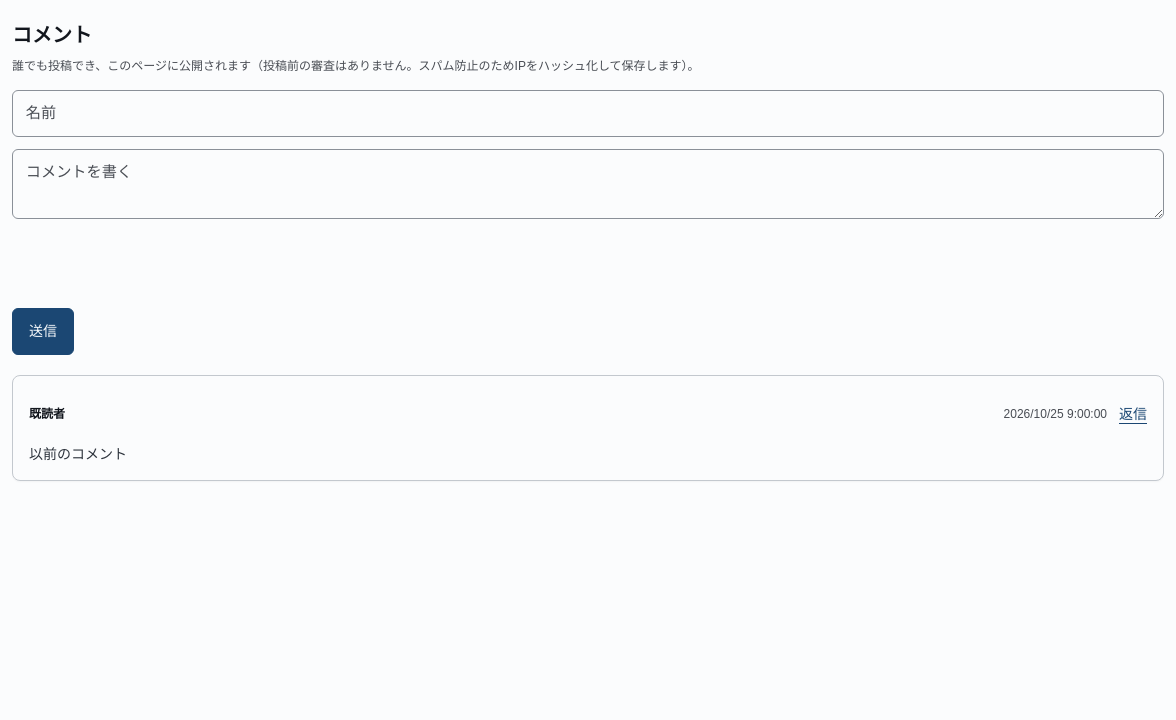
CommentSection › shows a client validation error without network on empty submit
Expected: the text "以前のコメント" is shown, [29,446,127,462]
Click the button "送信" at (43, 332), box [12,308,74,355]
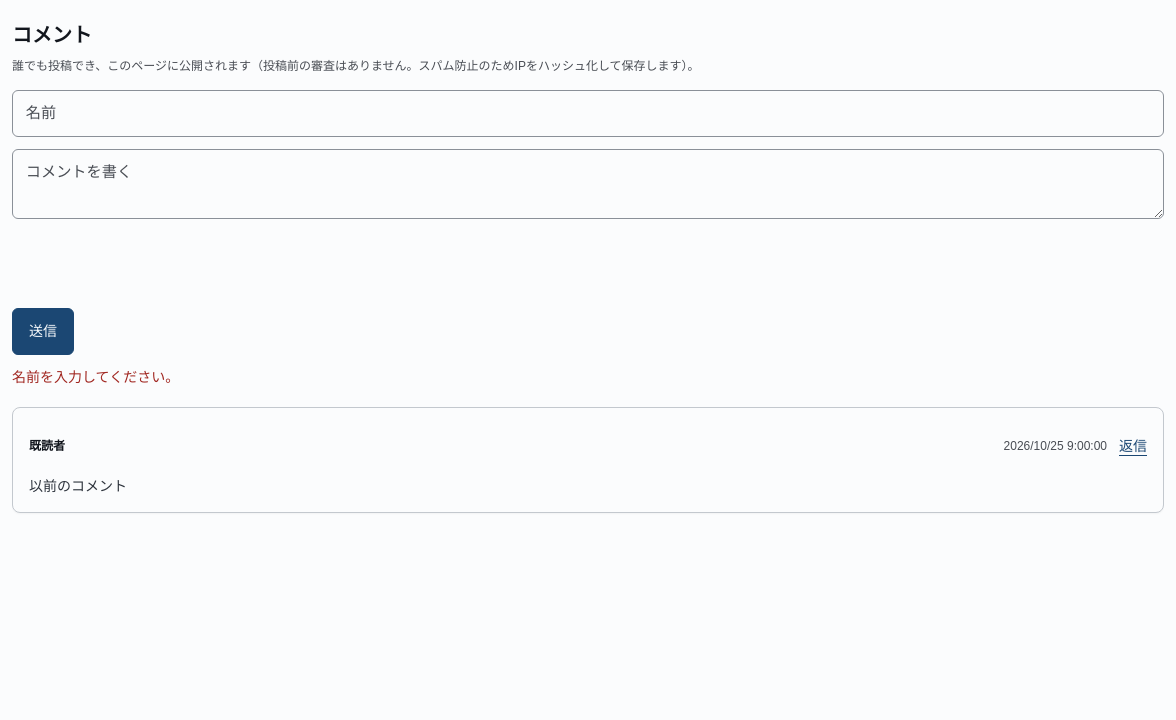
Result: the text "名前を入力してください。" is shown at [12,369,179,385]
